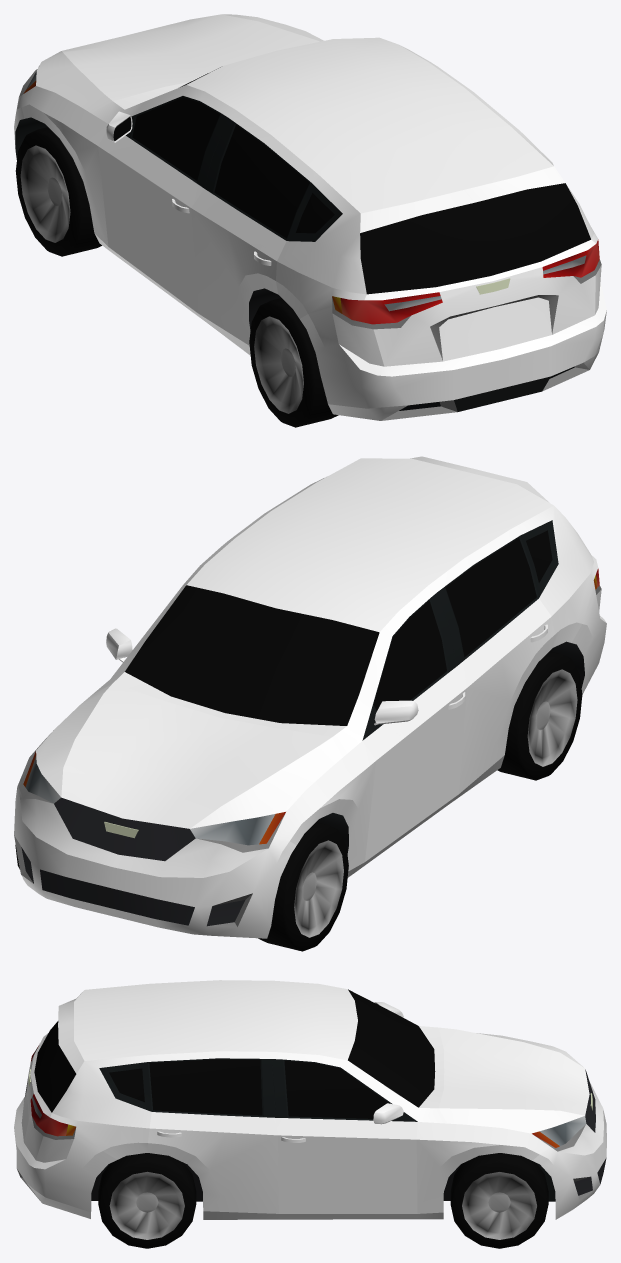
File: aq-crossover-parked.glb
The picture shows the model from 3 angles, top to bottom: view 1: azimuth 30°, elevation 25°; view 2: azimuth 150°, elevation 25°; view 3: azimuth 270°, elevation 25°; orthographic projection. The views are drawn at different scales.
Visible parts, largest first — view 1: crossover-paint.013, crossover-windows.013, crossover-blackparts.013, crossover-Cylinder.056, crossover-Cylinder.059, crossover-rim.053, crossover-rim.052, crossover-taillights.013, crossover-silvertrim.012, crossover-Cube.135; view 2: crossover-paint.013, crossover-windows.013, crossover-grills.013, crossover-blackparts.013, crossover-Cylinder.056, crossover-Cylinder.059, crossover-rim.052, crossover-rim.053, crossover-headlights.021, crossover-silvertrim.012; view 3: crossover-paint.013, crossover-windows.013, crossover-blackparts.013, crossover-rim.055, crossover-rim.054, crossover-tire.050, crossover-tire.049, crossover-grills.013, crossover-headlights.021, crossover-taillights.013, crossover-silvertrim.012.
Boxes of the visible parts, x1=… form: crossover-paint.013: x1=14, y1=14, x2=606, y2=420; crossover-windows.013: x1=113, y1=67, x2=590, y2=294; crossover-blackparts.013: x1=15, y1=96, x2=574, y2=411; crossover-Cylinder.056: x1=15, y1=127, x2=101, y2=256; crossover-Cylinder.059: x1=249, y1=298, x2=338, y2=427; crossover-rim.053: x1=254, y1=316, x2=303, y2=413; crossover-rim.052: x1=20, y1=145, x2=70, y2=242; crossover-taillights.013: x1=340, y1=239, x2=599, y2=324; crossover-silvertrim.012: x1=19, y1=69, x2=601, y2=420; crossover-Cube.135: x1=384, y1=255, x2=586, y2=311; crossover-paint.013: x1=14, y1=456, x2=606, y2=938; crossover-windows.013: x1=125, y1=530, x2=552, y2=725; crossover-grills.013: x1=21, y1=797, x2=245, y2=926; crossover-blackparts.013: x1=316, y1=520, x2=584, y2=853; crossover-Cylinder.056: x1=258, y1=822, x2=348, y2=951; crossover-Cylinder.059: x1=497, y1=651, x2=582, y2=780; crossover-rim.052: x1=294, y1=840, x2=343, y2=937; crossover-rim.053: x1=527, y1=669, x2=577, y2=766; crossover-headlights.021: x1=25, y1=756, x2=275, y2=845; crossover-silvertrim.012: x1=14, y1=585, x2=601, y2=927; crossover-paint.013: x1=14, y1=980, x2=606, y2=1219; crossover-windows.013: x1=34, y1=989, x2=435, y2=1118; crossover-blackparts.013: x1=91, y1=1058, x2=555, y2=1201; crossover-rim.055: x1=109, y1=1171, x2=184, y2=1239; crossover-rim.054: x1=462, y1=1172, x2=536, y2=1239; crossover-tire.050: x1=98, y1=1153, x2=196, y2=1248; crossover-tire.049: x1=450, y1=1153, x2=548, y2=1248; crossover-grills.013: x1=574, y1=1069, x2=606, y2=1195; crossover-headlights.021: x1=539, y1=1116, x2=586, y2=1145; crossover-taillights.013: x1=30, y1=1045, x2=68, y2=1136; crossover-silvertrim.012: x1=17, y1=1079, x2=592, y2=1200.
Bounding box in the file's own units: 2.1 × 1.63 × 4.64.
